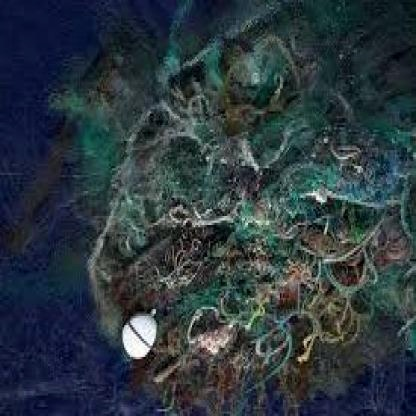net: (101, 43, 382, 375)
